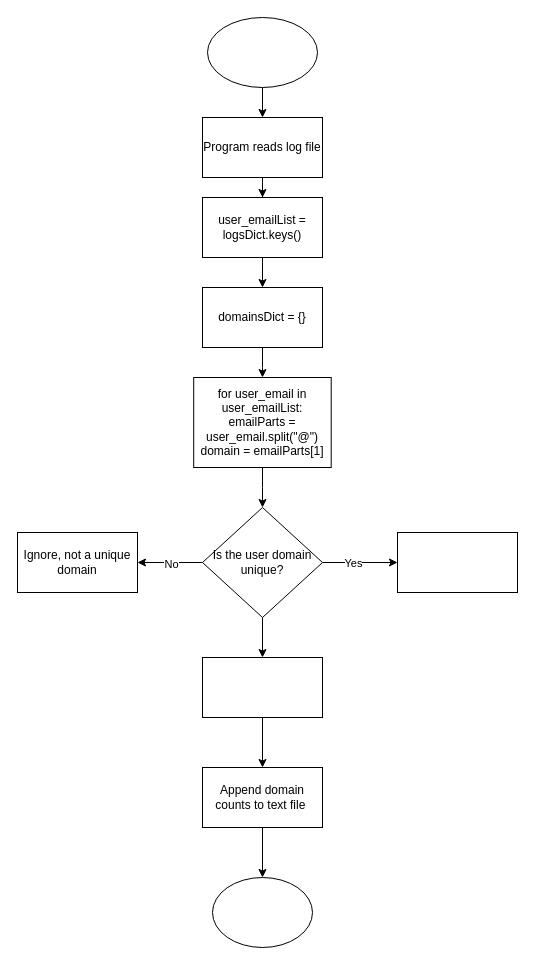
The diagram is 535 pixels wide and 965 high, and some of its shapes have lost their labels. Here are the shapes that lost their labels. From the top down, the centre of each, then its label:
At (262,52): "Start".
At (457,562): "Mark as unique domain, store in dictionary".
At (262,687): "Return unique domains".
At (262,912): "Stop".
